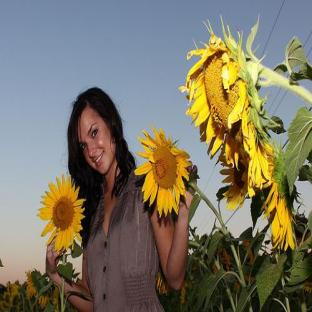sunflower: (134, 125, 200, 216), (37, 173, 85, 259)
